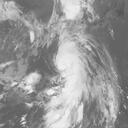cyclone: (53, 36, 102, 98)
